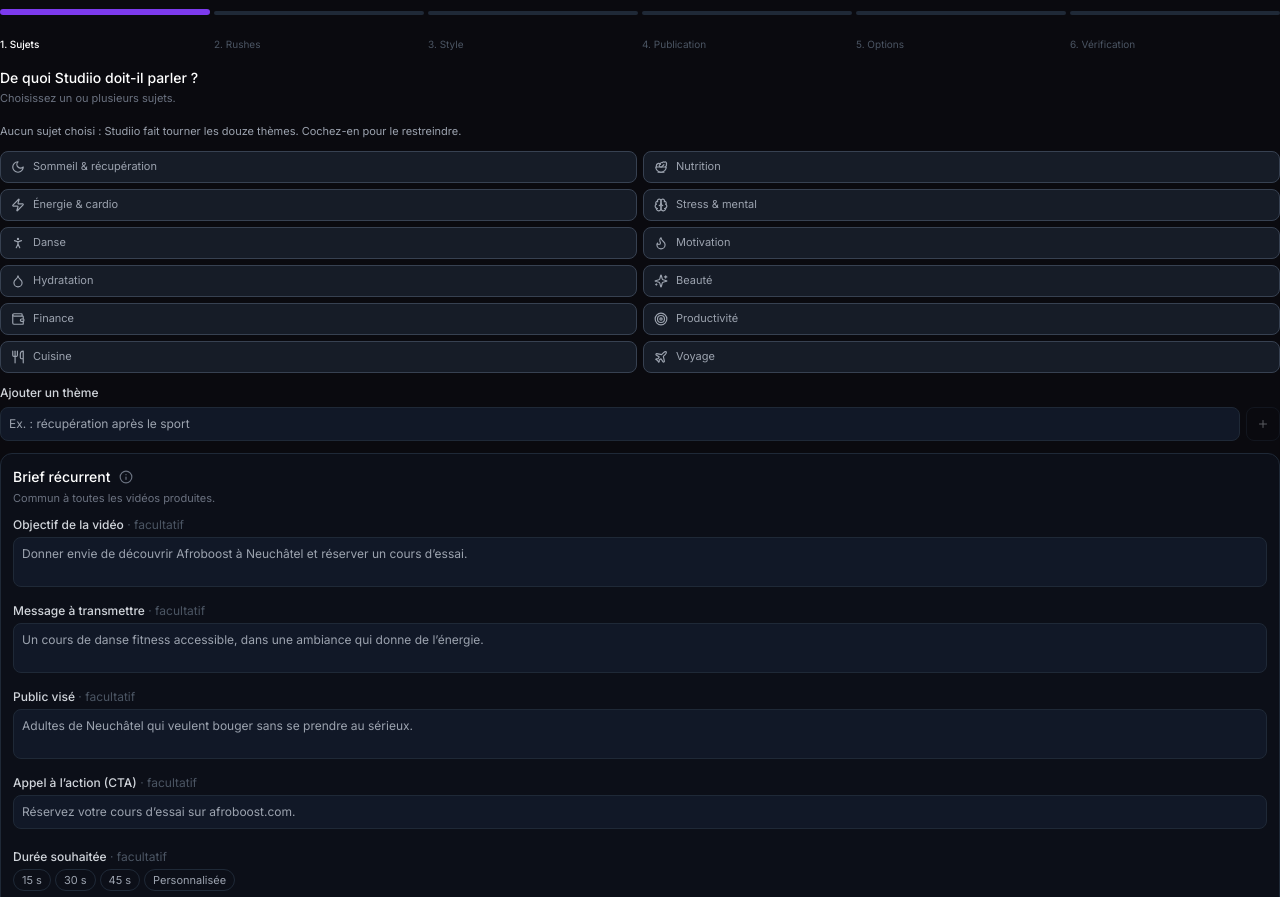
Test: Les trois intentions › revenir de « produire » à « valider » rend le sélecteur, vide
expect the text "De quoi Studiio doit-il parler ?" is shown: met, box [0, 69, 198, 86]
Click the button named "Publication".
click(747, 13)  # box [642, 11, 852, 15]
(page scrolled)
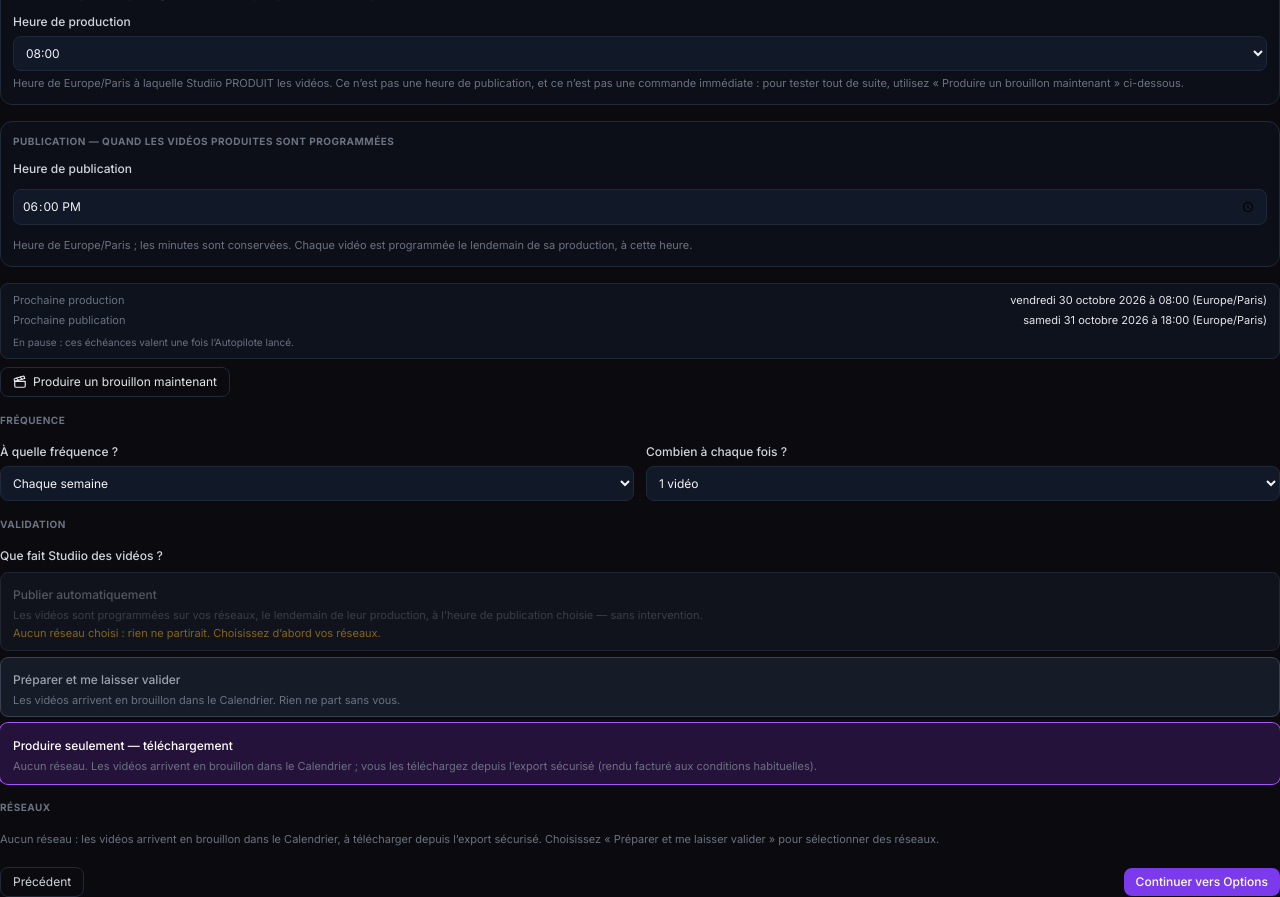
expect the time field labelled "Heure de publication" is shown: met, box [13, 188, 1267, 225]
Click the button that starts with "Préparer et me laisser valider".
click(97, 679)  # box [0, 657, 1279, 717]
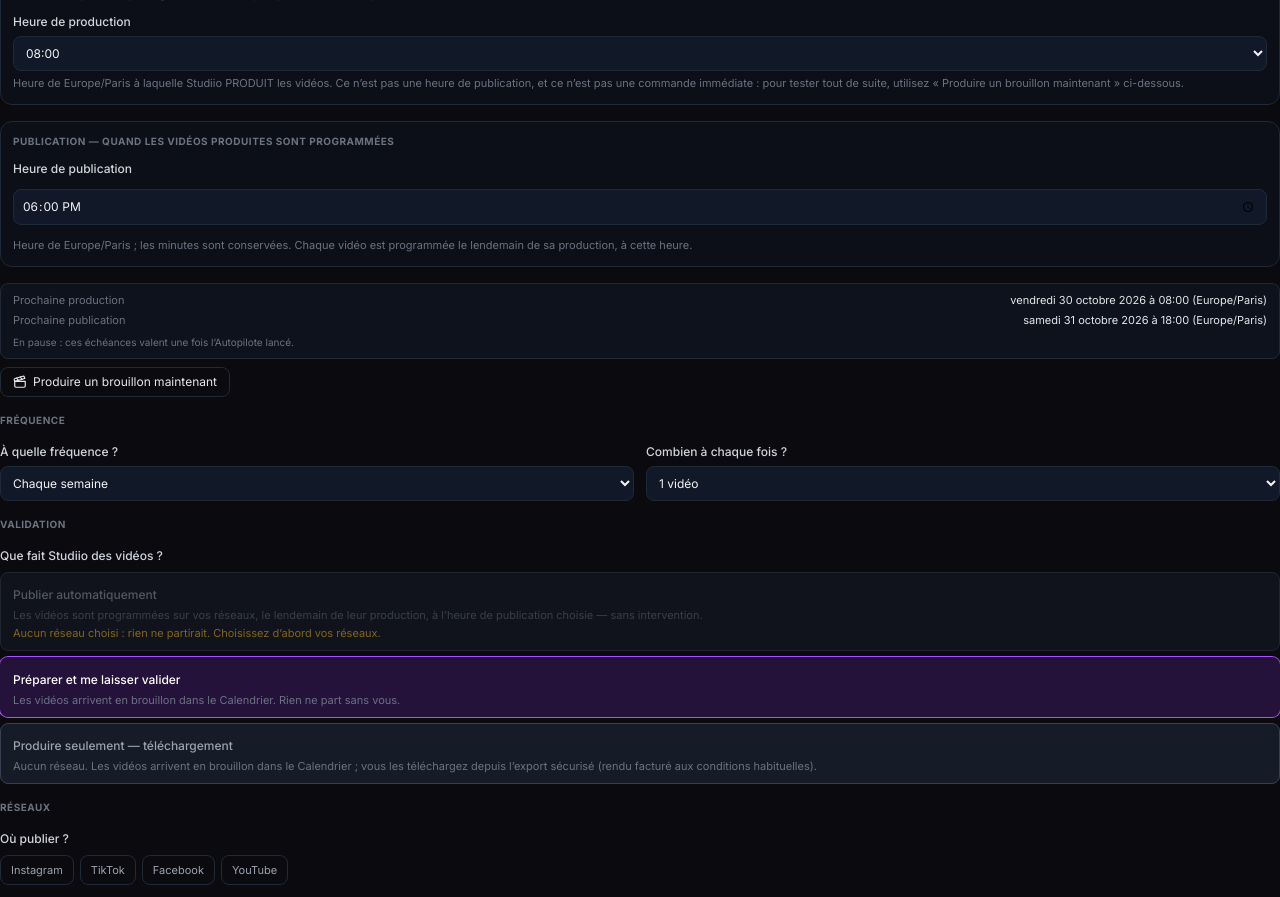
expect the button "Instagram" is shown: met, box [0, 855, 74, 885]
